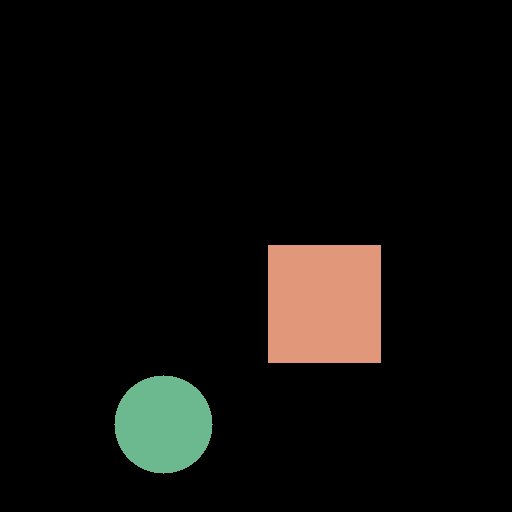circle: (114, 375, 212, 473)
square: (268, 245, 380, 362)
